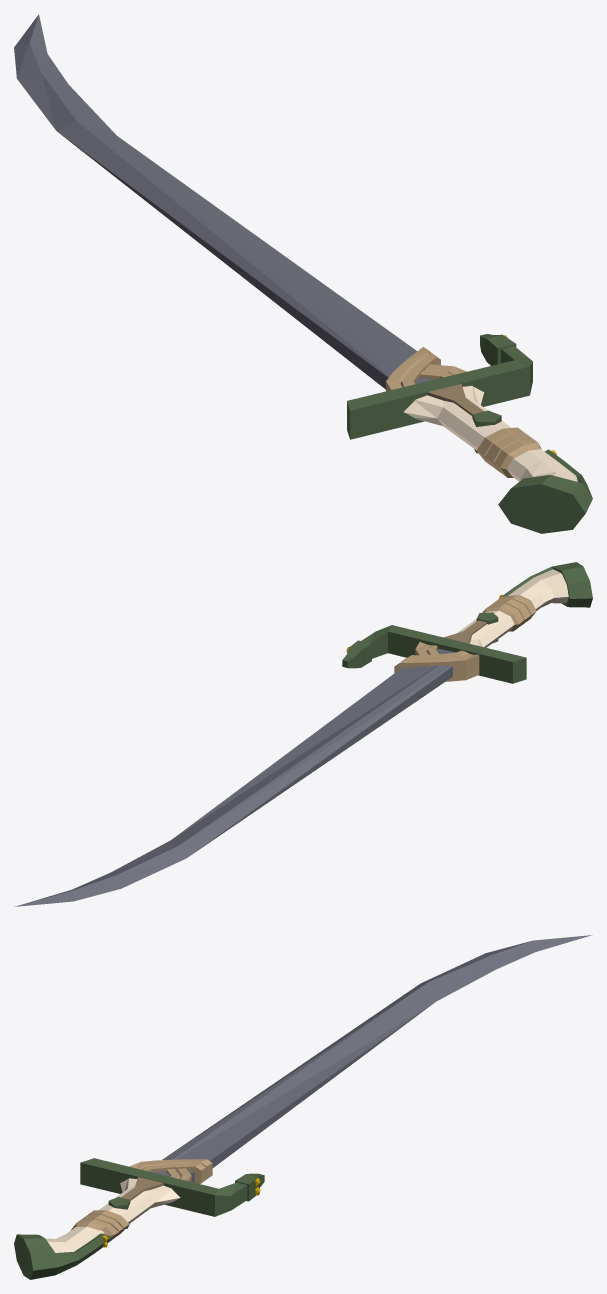
The model's file is sword_9.glb.
The picture shows the model from 3 angles, top to bottom: view 1: azimuth 30°, elevation 25°; view 2: azimuth 150°, elevation 25°; view 3: azimuth 330°, elevation 25°; orthographic projection. The views are drawn at different scales.
Parts seen in each view (by area): view 1: sword_9; view 2: sword_9; view 3: sword_9.
Boxes of the visible parts, x1=… form: sword_9: x1=14, y1=14, x2=592, y2=533; sword_9: x1=14, y1=562, x2=592, y2=906; sword_9: x1=14, y1=935, x2=592, y2=1279.
Size of the model in its own units: 0.1873 by 0.0445 by 1.05.
Materials: 1 (1 with a texture image).
